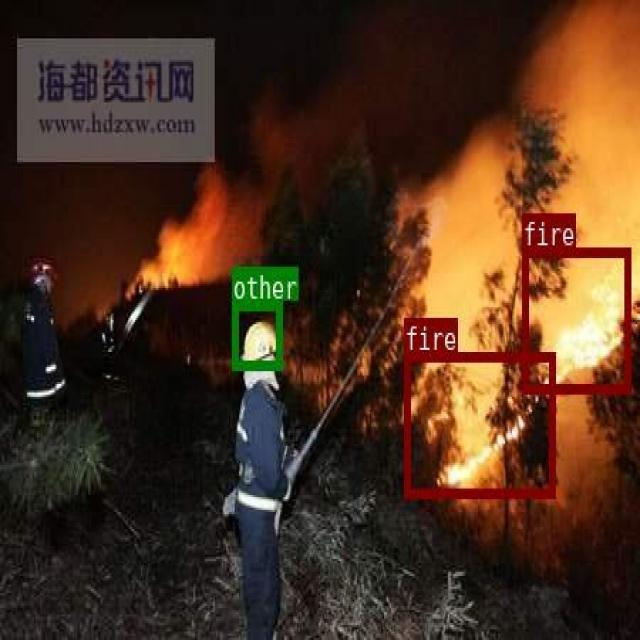fire: (403, 350, 554, 495), (521, 247, 630, 392)
